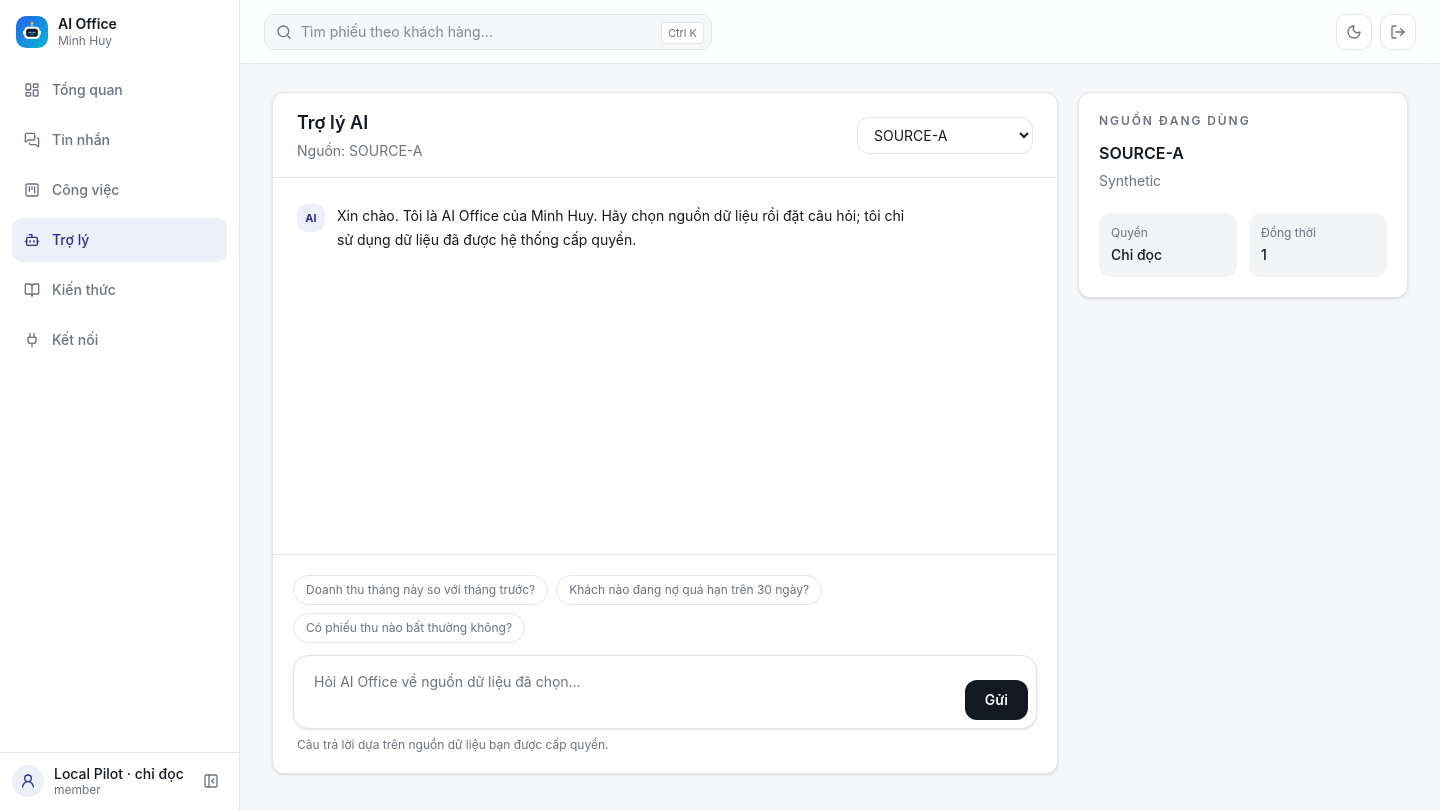
it: shows bounded credential guidance for connection code read_only_unqualified
Click the button "Kết nối".
click(120, 340)  # box [12,318,227,362]
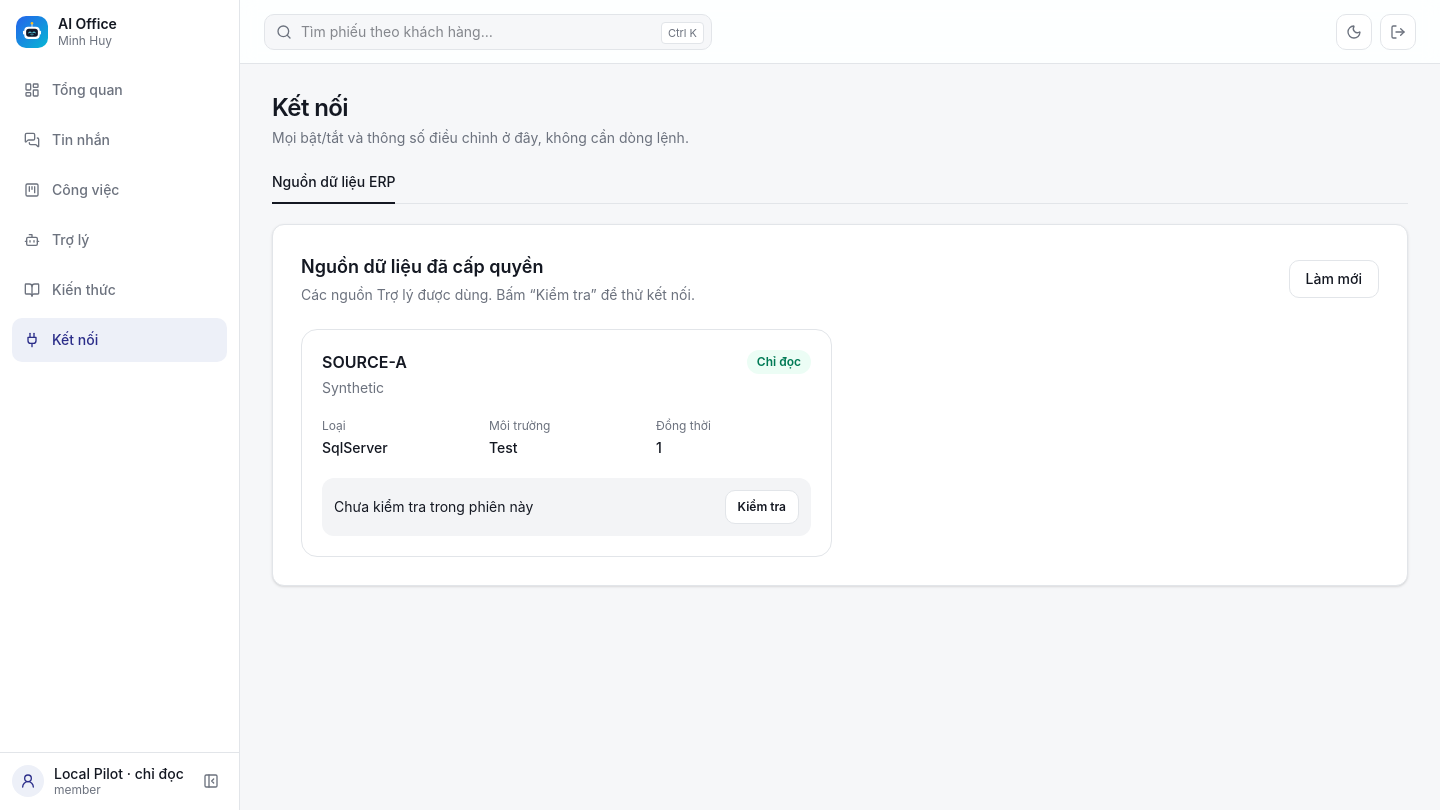
Click the button "Kiểm tra".
click(762, 507)  # box [725,490,799,524]
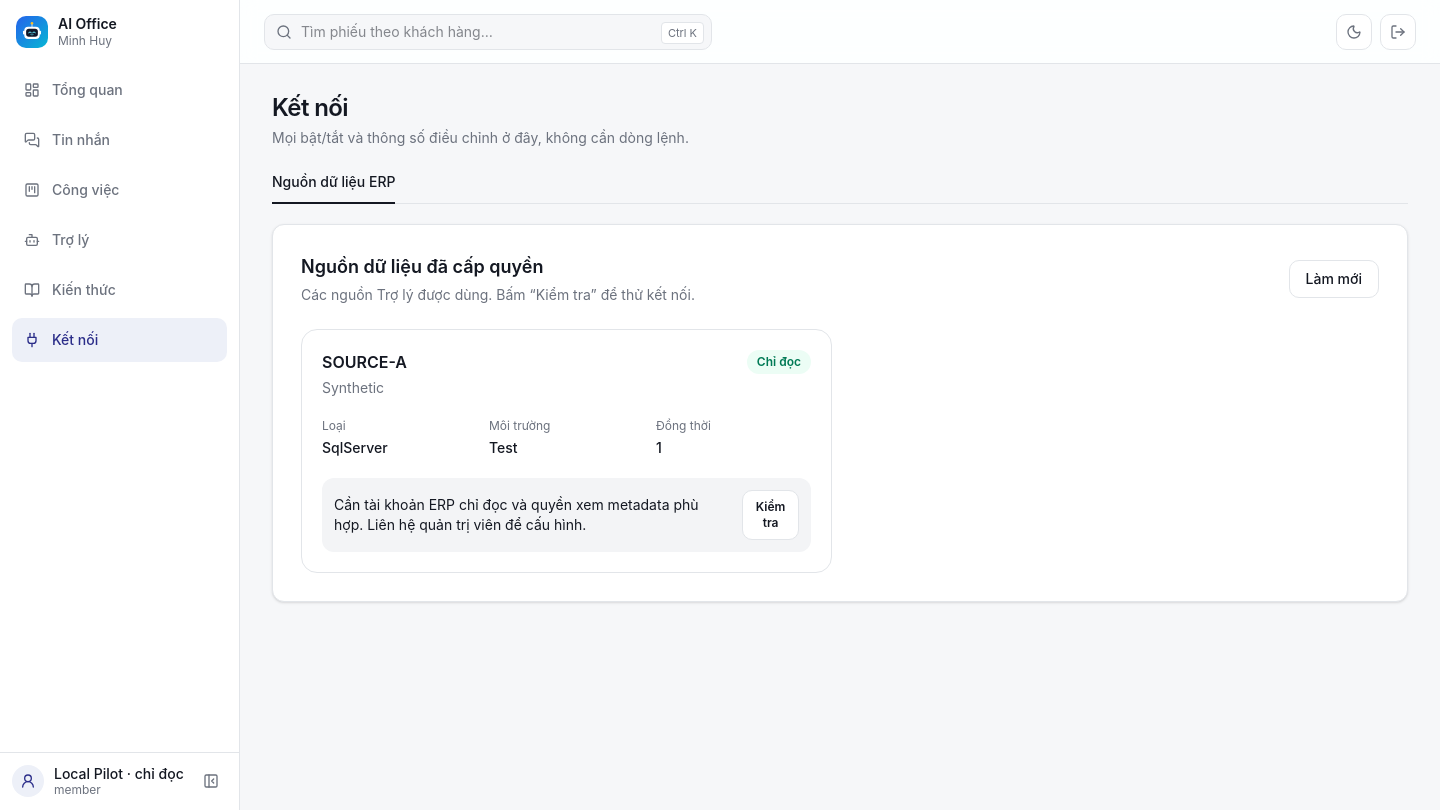
Now the text "Cần tài khoản ERP chỉ đọc và quyền xem metadata phù hợp. Liên hệ quản trị viên để cấu hình." is shown, box [334,496,699,533]
